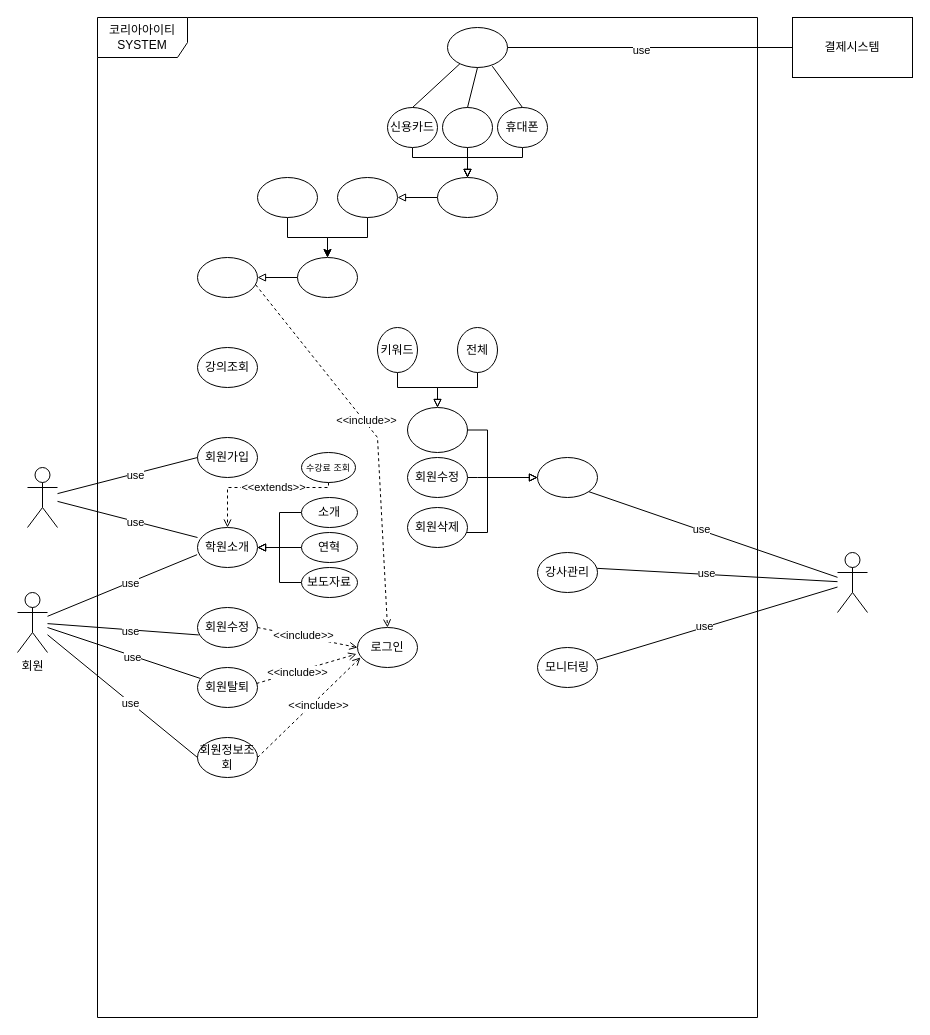
The diagram is 930 pixels wide and 1035 high, and some of its shapes have lost their labels. Here are the shapes that lost their labels. From the top down, the centre of each, then its label:
At (477,47): "정보확인".
At (467,127): "무통장".
At (287,197): "장바구니".
At (367,197): "결제 요청".
At (467,197): "결제방식".
At (227,277): "수강신청".
At (327,277): "강의상세 조회".
At (437,429): "회원조회".
At (42,497): "비회원".
At (567,477): "회원관리".
At (852,582): "관리자".
